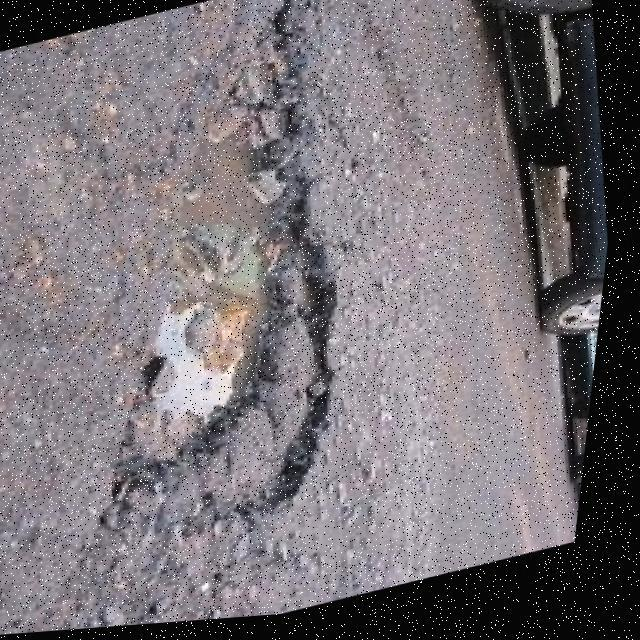pothole: (27, 0, 426, 562)
